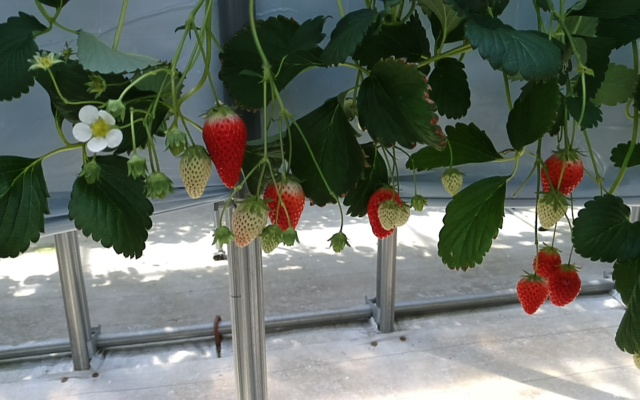GreenStrawberry: (230, 195, 268, 249), (179, 145, 211, 200), (535, 189, 571, 231), (440, 167, 465, 197), (377, 201, 401, 231), (260, 225, 280, 254), (393, 202, 410, 227)
MatureStrawberry: (201, 103, 249, 189), (263, 173, 305, 236), (540, 147, 586, 203), (367, 184, 401, 242), (548, 264, 582, 309), (516, 272, 550, 316), (533, 244, 563, 279)
